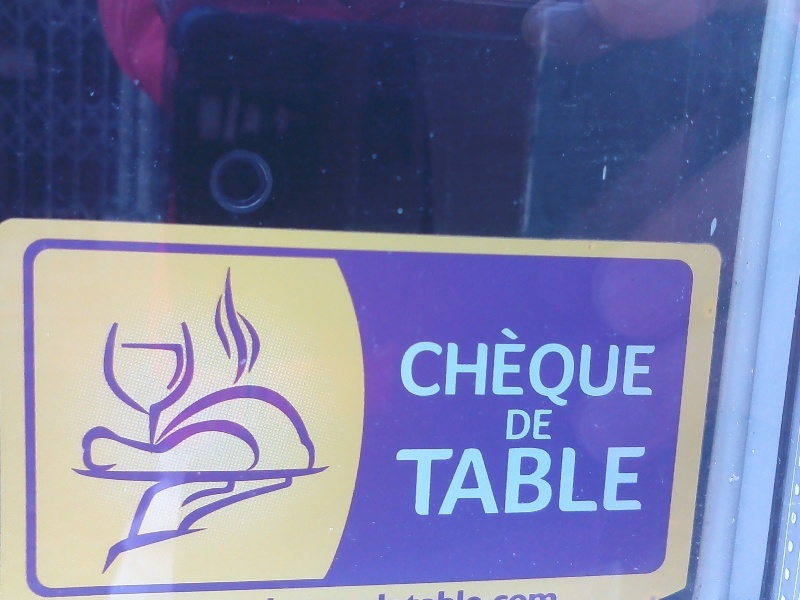text: (417, 326, 432, 413), (433, 326, 448, 413), (449, 326, 464, 413), (465, 326, 480, 413), (481, 326, 496, 413), (497, 326, 512, 413), (513, 326, 528, 413), (529, 326, 544, 413), (545, 326, 560, 413), (561, 326, 576, 413), (577, 326, 592, 413), (593, 326, 608, 413), (609, 326, 624, 413), (625, 326, 640, 413), (641, 326, 656, 413), (402, 326, 416, 413), (401, 445, 416, 519), (417, 445, 432, 519), (433, 445, 448, 519), (449, 445, 464, 519), (465, 445, 480, 519), (481, 445, 496, 519), (497, 445, 512, 519), (513, 445, 528, 519), (529, 445, 544, 519), (545, 445, 560, 519), (561, 445, 576, 519), (577, 445, 592, 519), (593, 445, 608, 519), (609, 445, 624, 519), (625, 445, 640, 519), (641, 445, 651, 519), (513, 407, 528, 442), (529, 407, 544, 442), (545, 407, 554, 442), (396, 445, 400, 519), (505, 407, 512, 442), (385, 590, 400, 600), (401, 590, 416, 600), (417, 590, 432, 600), (433, 590, 448, 600), (449, 590, 464, 600), (465, 590, 480, 600), (481, 590, 496, 600), (497, 590, 512, 600), (513, 590, 528, 600), (529, 590, 544, 600), (545, 590, 557, 600), (657, 326, 658, 413), (376, 590, 384, 600)
